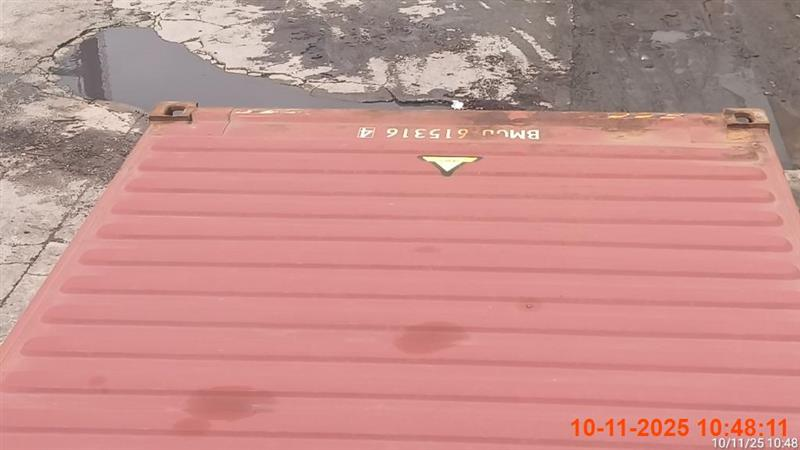rust: (1, 100, 798, 442)
